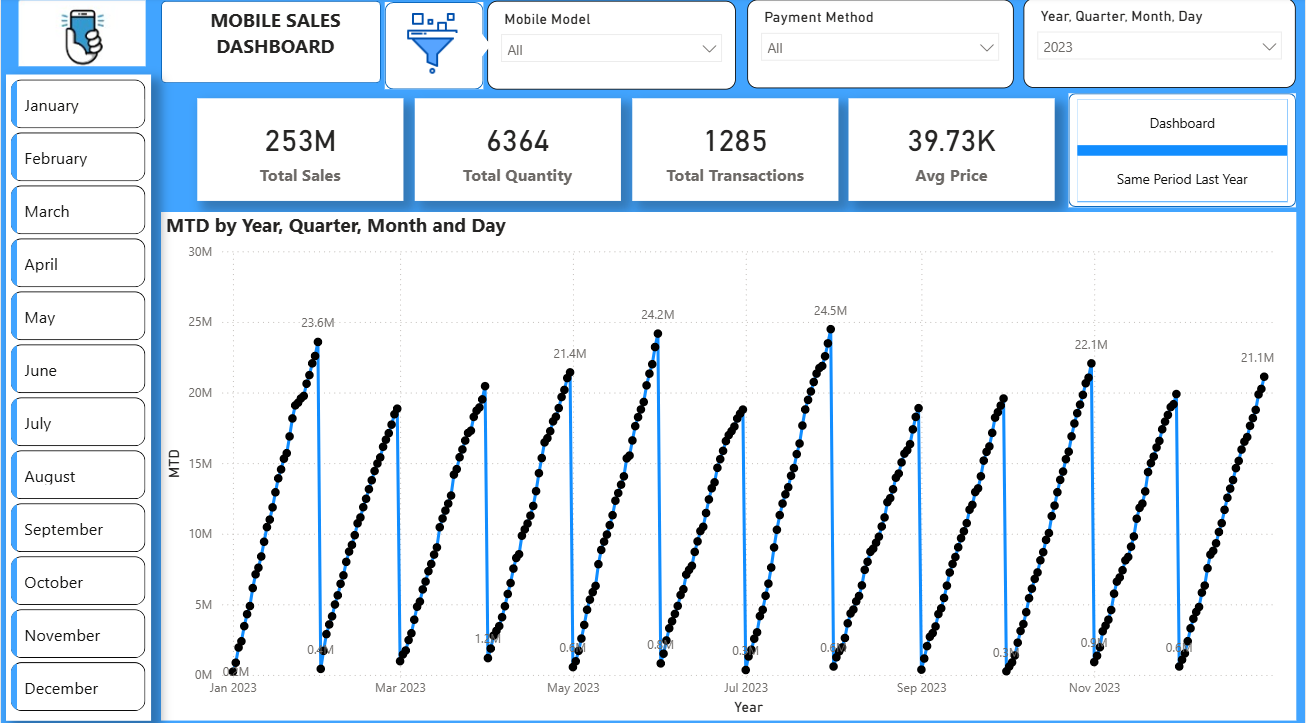

Layout of this report page (visuals, bound fields, positions):
{"tool":"powerbi","page":{"name":"MTD Report","canvas":[1280,720],"ordinal":1},"visuals":[{"type":"image","box":[17.2,0,125.2,71.2],"z":0},{"type":"card","fields":{"Values":["Mobile_Sales_Data.Total Sales"]},"box":[192.6,99.4,202.5,100.6],"z":1000},{"type":"card","fields":{"Values":["Mobile_Sales_Data.Total Quantity"]},"box":[406.1,99.4,202.5,100.6],"z":2000},{"type":"card","fields":{"Values":["Mobile_Sales_Data.Total Transactions"]},"box":[619.6,99.4,202.5,100.6],"z":3000},{"type":"card","fields":{"Values":["Mobile_Sales_Data.Avg Price"]},"box":[831.9,99.4,202.5,100.6],"z":4000},{"type":"slicer","fields":{"Values":["Mobile_Sales_Data.Mobile Model"]},"box":[477.3,3.7,244.2,87.1],"z":5000},{"type":"slicer","fields":{"Values":["Mobile_Sales_Data.Payment Method"]},"box":[732.5,2.5,261.4,87.1],"z":6000},{"type":"slicer","fields":{"Values":["Custom_Calender.Date.Variation.Date Hierarchy.Year","Custom_Calender.Date.Variation.Date Hierarchy.Quarter","Custom_Calender.Date.Variation.Date Hierarchy.Month","Custom_Calender.Date.Variation.Date Hierarchy.Day"]},"box":[1003.7,1.2,267.5,88.3],"z":7000},{"type":"shape","box":[376.7,4.9,96.9,85.9],"z":8000},{"type":"image","box":[373,14.7,100.6,61.4],"z":9000},{"type":"shape","box":[444.2,23.3,36.8,47.9],"z":10000},{"type":"shape","box":[157.1,3.7,216,81],"z":11000},{"type":"textbox","box":[179.1,4.9,180.4,71.2],"z":12000},{"type":"lineChart","fields":{"Category":["Custom_Calender.Date.Variation.Date Hierarchy.Year","Custom_Calender.Date.Variation.Date Hierarchy.Quarter","Custom_Calender.Date.Variation.Date Hierarchy.Month","Custom_Calender.Date.Variation.Date Hierarchy.Day"],"Y":["Mobile_Sales_Data.MTD"]},"box":[157.1,211,1114.1,499.4],"z":13000},{"type":"advancedSlicerVisual","fields":{"Values":["Custom_Calender.Date.Variation.Date Hierarchy.Month"]},"box":[4.9,76.1,142.3,634.4],"z":14000},{"type":"shape","box":[1047.9,94.5,223.3,111.7],"z":14001},{"type":"pageNavigator","box":[1056.4,100.6,206.1,100.6],"z":14002}]}

Visuals, with their boxes in screenshot pixels (x1, y1, x2, y2), scaled from the page's 1280x720 canvas onto the 1306x723 screenshot:
image: l=18, t=0, r=145, b=71
card - Mobile_Sales_Data.Total Sales: l=197, t=100, r=403, b=201
card - Mobile_Sales_Data.Total Quantity: l=414, t=100, r=621, b=201
card - Mobile_Sales_Data.Total Transactions: l=632, t=100, r=839, b=201
card - Mobile_Sales_Data.Avg Price: l=849, t=100, r=1055, b=201
slicer - Mobile_Sales_Data.Mobile Model: l=487, t=4, r=736, b=91
slicer - Mobile_Sales_Data.Payment Method: l=747, t=3, r=1014, b=90
slicer - Custom_Calender.Date.Variation.Date Hierarchy.Year x Custom_Calender.Date.Variation.Date Hierarchy.Quarter: l=1024, t=1, r=1297, b=90
shape: l=384, t=5, r=483, b=91
image: l=381, t=15, r=483, b=76
shape: l=453, t=23, r=491, b=71
shape: l=160, t=4, r=381, b=85
textbox: l=183, t=5, r=367, b=76
lineChart - Custom_Calender.Date.Variation.Date Hierarchy.Year x Custom_Calender.Date.Variation.Date Hierarchy.Quarter: l=160, t=212, r=1297, b=713
advancedSlicerVisual - Custom_Calender.Date.Variation.Date Hierarchy.Month: l=5, t=76, r=150, b=713
shape: l=1069, t=95, r=1297, b=207
pageNavigator: l=1078, t=101, r=1288, b=202
